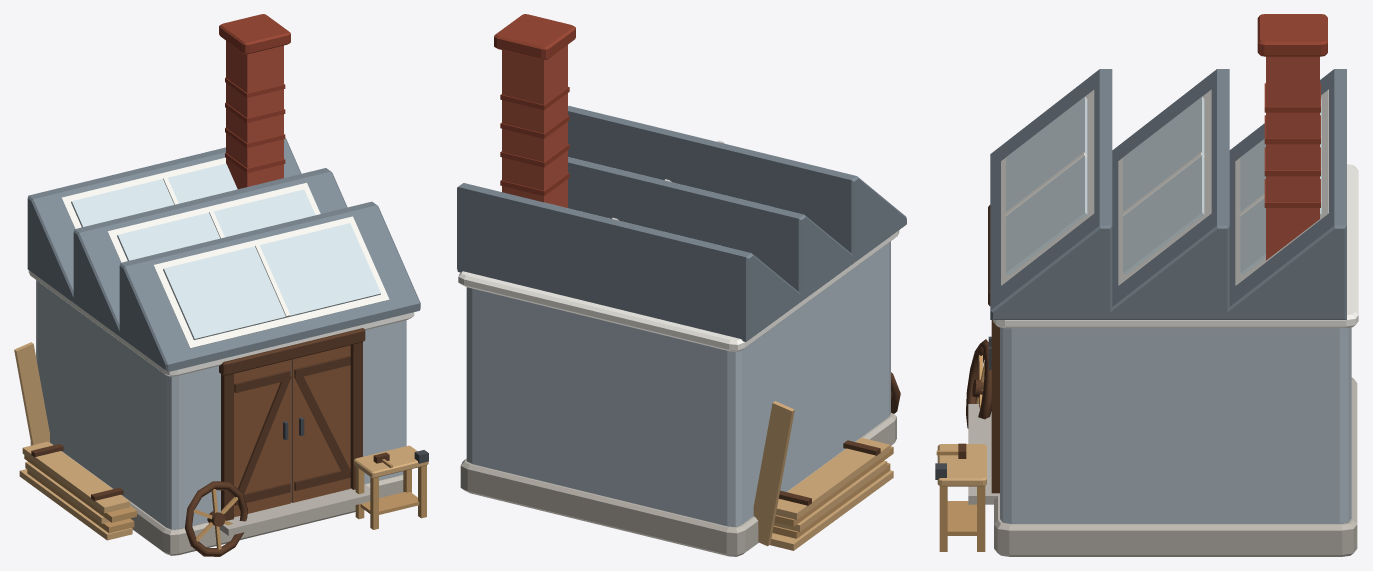
Rendered from craftsman_workshop.glb.
3 views of the same model, side by side, from view 1: azimuth 30°, elevation 25°; view 2: azimuth 150°, elevation 25°; view 3: azimuth 270°, elevation 25° (orthographic). The views are drawn at different scales.
Parts seen in each view (by area): view 1: walls, roof_tooth_1, skylight_glass_1, roof_tooth_2, chimney, door_right, roof_tooth_3, door_left, skylight_glass_2, skylight_glass_3, skylight_frame_1, plinth (+23 smaller); view 2: walls, roof_tooth_3, roof_tooth_1, roof_tooth_2, plinth, chimney, eave_band, plank_leaning, planks_4, chimney_cap, planks_0, planks_2 (+2 smaller); view 3: walls, roof_tooth_1, roof_tooth_2, plinth, roof_tooth_3, skylight_glass_1, skylight_glass_2, chimney, eave_band, skylight_glass_3, chimney_cap, skylight_frame_2 (+9 smaller).
Boxes of the visible parts, x1=… form: walls: x1=36, y1=280, x2=406, y2=529; roof_tooth_1: x1=119, y1=201, x2=420, y2=371; skylight_glass_1: x1=163, y1=223, x2=380, y2=339; roof_tooth_2: x1=73, y1=168, x2=347, y2=336; chimney: x1=226, y1=41, x2=283, y2=189; door_right: x1=291, y1=345, x2=350, y2=502; roof_tooth_3: x1=27, y1=138, x2=301, y2=302; door_left: x1=234, y1=360, x2=290, y2=517; skylight_glass_2: x1=117, y1=189, x2=315, y2=260; skylight_glass_3: x1=71, y1=163, x2=237, y2=227; skylight_frame_1: x1=154, y1=216, x2=389, y2=348; plinth: x1=30, y1=442, x2=403, y2=555; walls: x1=466, y1=241, x2=890, y2=527; roof_tooth_3: x1=457, y1=183, x2=801, y2=341; roof_tooth_1: x1=568, y1=106, x2=906, y2=262; roof_tooth_2: x1=568, y1=157, x2=854, y2=301; plinth: x1=460, y1=412, x2=896, y2=556; chimney: x1=502, y1=45, x2=567, y2=207; eave_band: x1=458, y1=230, x2=899, y2=351; plank_leaning: x1=753, y1=401, x2=794, y2=546; planks_4: x1=776, y1=437, x2=890, y2=519; chimney_cap: x1=494, y1=14, x2=575, y2=59; planks_0: x1=770, y1=470, x2=893, y2=550; planks_2: x1=774, y1=460, x2=887, y2=531; walls: x1=1000, y1=327, x2=1351, y2=523; roof_tooth_1: x1=990, y1=69, x2=1112, y2=319; roof_tooth_2: x1=1109, y1=69, x2=1229, y2=319; plinth: x1=994, y1=377, x2=1357, y2=556; roof_tooth_3: x1=1227, y1=69, x2=1346, y2=319; skylight_glass_1: x1=1006, y1=96, x2=1087, y2=275; skylight_glass_2: x1=1123, y1=96, x2=1204, y2=275; chimney: x1=1266, y1=56, x2=1319, y2=260; eave_band: x1=993, y1=164, x2=1358, y2=328; skylight_glass_3: x1=1240, y1=98, x2=1321, y2=275; chimney_cap: x1=1257, y1=14, x2=1327, y2=56; skylight_frame_2: x1=1118, y1=89, x2=1211, y2=285.
Bounding box in the file's own units: 3.52 × 4.76 × 3.61.
